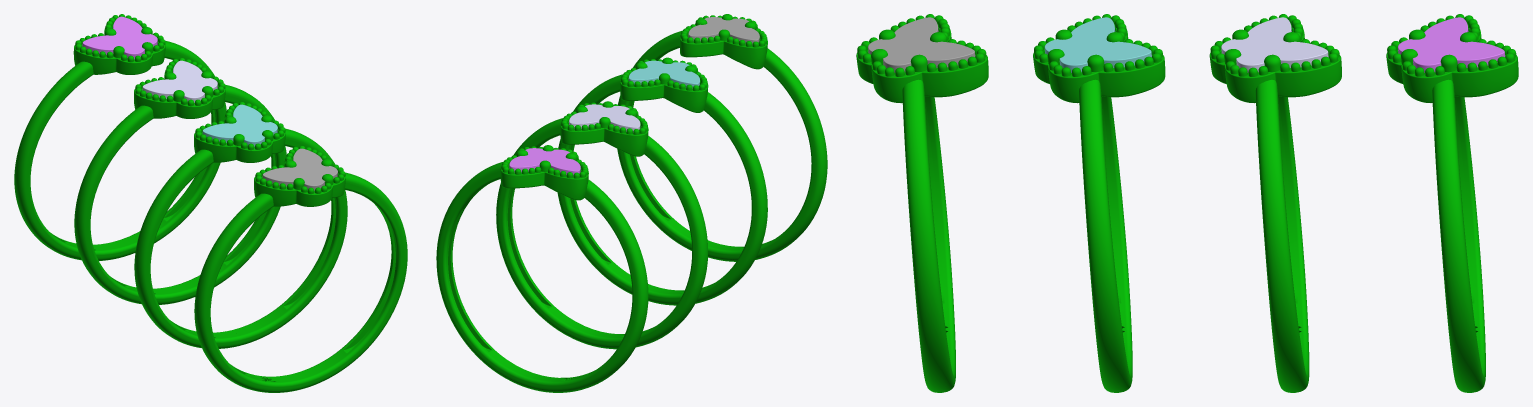
The picture shows the model from 3 angles, left to right: view 1: azimuth 30°, elevation 25°; view 2: azimuth 150°, elevation 25°; view 3: azimuth 270°, elevation 25°; orthographic projection. The views are drawn at different scales.
Visible parts, largest first — view 1: ijewel-04.3dm; view 2: ijewel-04.3dm; view 3: ijewel-04.3dm.
Part boxes in pixels (box(x1,y1,x2,y2)): ijewel-04.3dm: box(14, 14, 407, 392); ijewel-04.3dm: box(436, 14, 827, 392); ijewel-04.3dm: box(856, 14, 1518, 392).
Bounding box in the file's own units: 1.7 × 1.78 × 3.15.
